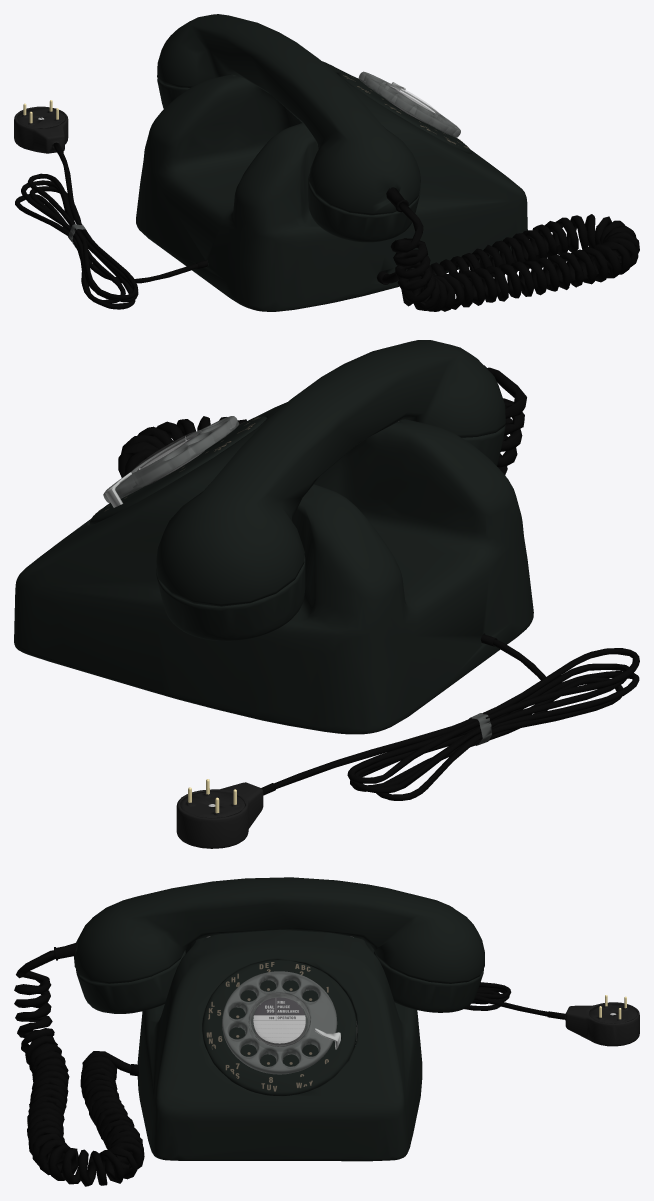
File: vintage_telephone.glb
3 renders of one model, top to bottom at view 1: azimuth 30°, elevation 25°; view 2: azimuth 150°, elevation 25°; view 3: azimuth 270°, elevation 25°, orthographic. The views are drawn at different scales.
Visible parts, largest first — view 1: polySurface184, pasted__polySurface110, polySurface193, polySurface192, pasted__polySurface111, polySurface186, polySurface190, polySurface194, polySurface189; view 2: polySurface184, pasted__polySurface110, polySurface192, pasted__polySurface109, polySurface193, polySurface190, polySurface186, polySurface194, polySurface189, pasted__polySurface111; view 3: polySurface184, pasted__polySurface110, polySurface193, polySurface194, polySurface186, pasted__polySurface111, pasted__polySurface109, polySurface187, polySurface190, polySurface185, polySurface192, polySurface199 (+1 smaller).
Boxes of the visible parts, x1,y1,x2,y2 form: polySurface184: (136, 61, 527, 311); pasted__polySurface110: (157, 14, 420, 215); polySurface193: (382, 202, 639, 311); polySurface192: (15, 150, 198, 309); pasted__polySurface111: (308, 173, 420, 242); polySurface186: (358, 71, 460, 137); polySurface190: (14, 106, 68, 153); polySurface194: (337, 72, 471, 153); polySurface189: (17, 108, 65, 128); polySurface184: (14, 402, 533, 734); pasted__polySurface110: (156, 340, 505, 606); polySurface192: (274, 639, 639, 800); pasted__polySurface109: (156, 555, 305, 641); polySurface193: (118, 367, 526, 477); polySurface190: (176, 782, 263, 848); polySurface186: (103, 416, 239, 502); polySurface194: (89, 416, 267, 524); polySurface189: (180, 791, 244, 817); pasted__polySurface111: (461, 425, 505, 465); polySurface184: (137, 929, 422, 1161); pasted__polySurface110: (74, 877, 484, 983); polySurface193: (14, 950, 144, 1186); polySurface194: (202, 960, 356, 1095); polySurface186: (222, 971, 337, 1074); pasted__polySurface111: (76, 950, 185, 1013); pasted__polySurface109: (374, 951, 483, 1012); polySurface187: (249, 993, 309, 1046); polySurface190: (565, 1002, 639, 1046); polySurface185: (253, 997, 305, 1043); polySurface192: (464, 982, 547, 1016); polySurface199: (206, 962, 328, 1091).
Bounding box in the file's own units: 19.21 × 7.75 × 22.9.
4 materials, 4 textured.
